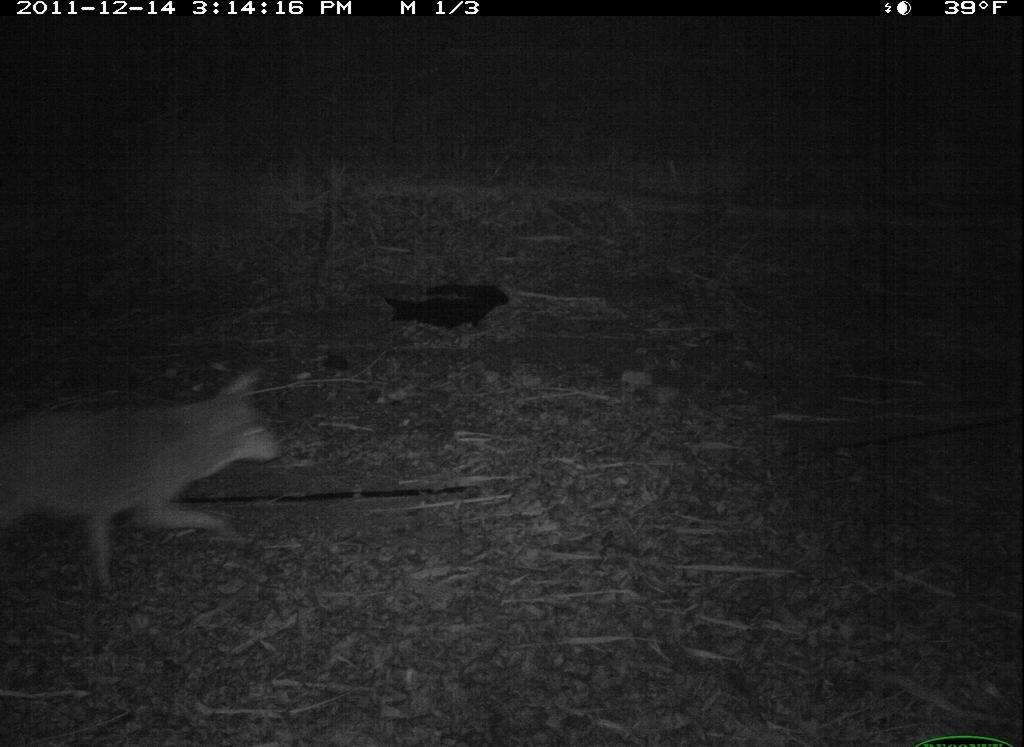coyote: (2, 331, 303, 598)
